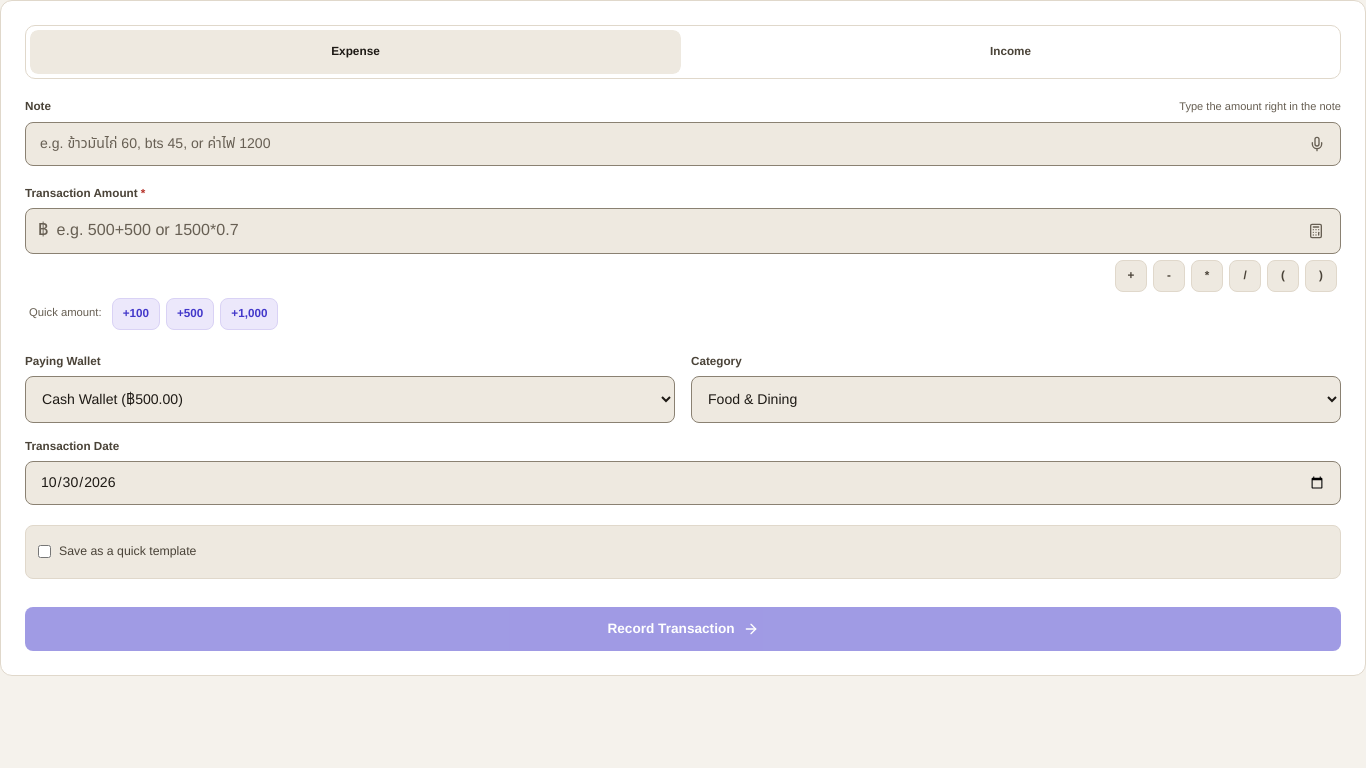
Test: TransactionForm: the form records the amount it seeds › after a save the field is empty and the submit disarmed, and a new amount can be typed at once
Type "lunch 60" into the field labelled "Note" at {"x": 683, "y": 144}, box 25,122 -> 1341,166
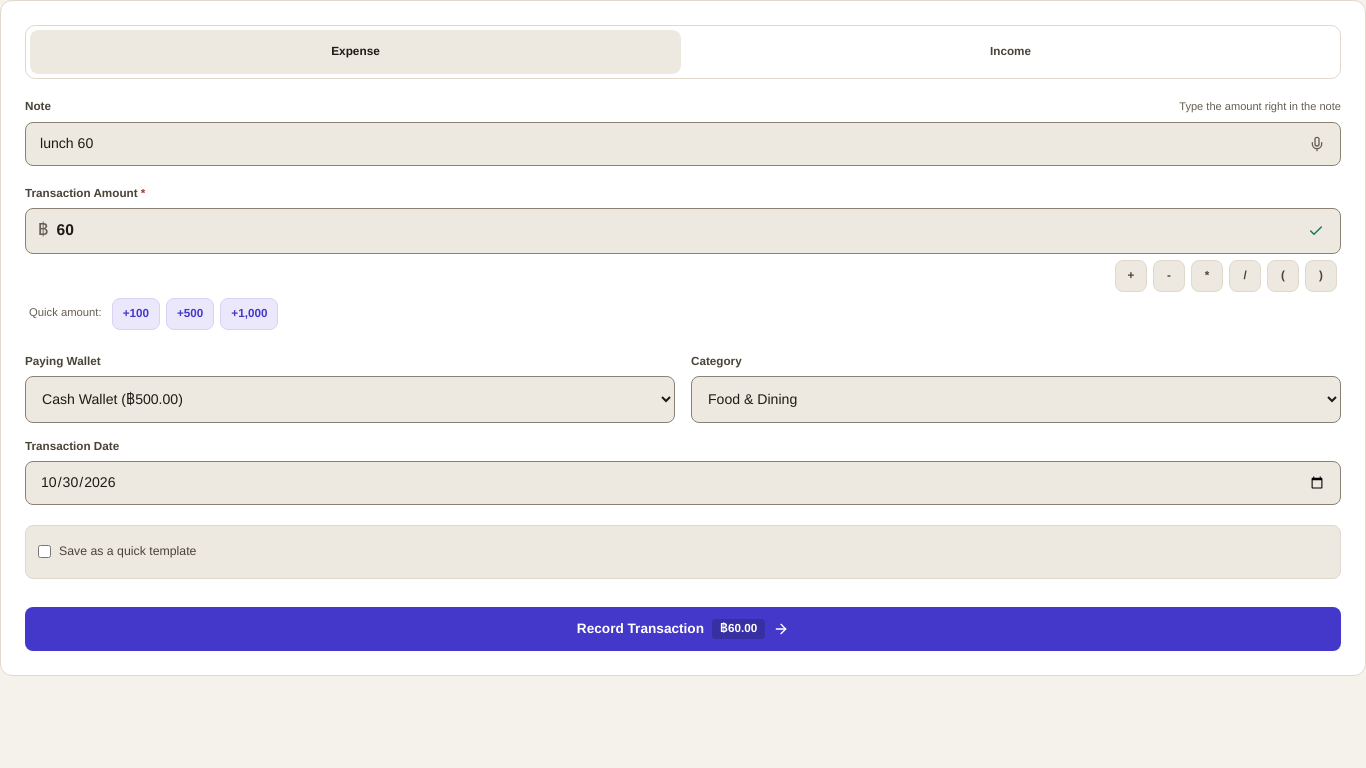
Click the button with id "t-confirm-btn" at {"x": 683, "y": 628}, box 25,606 -> 1341,650
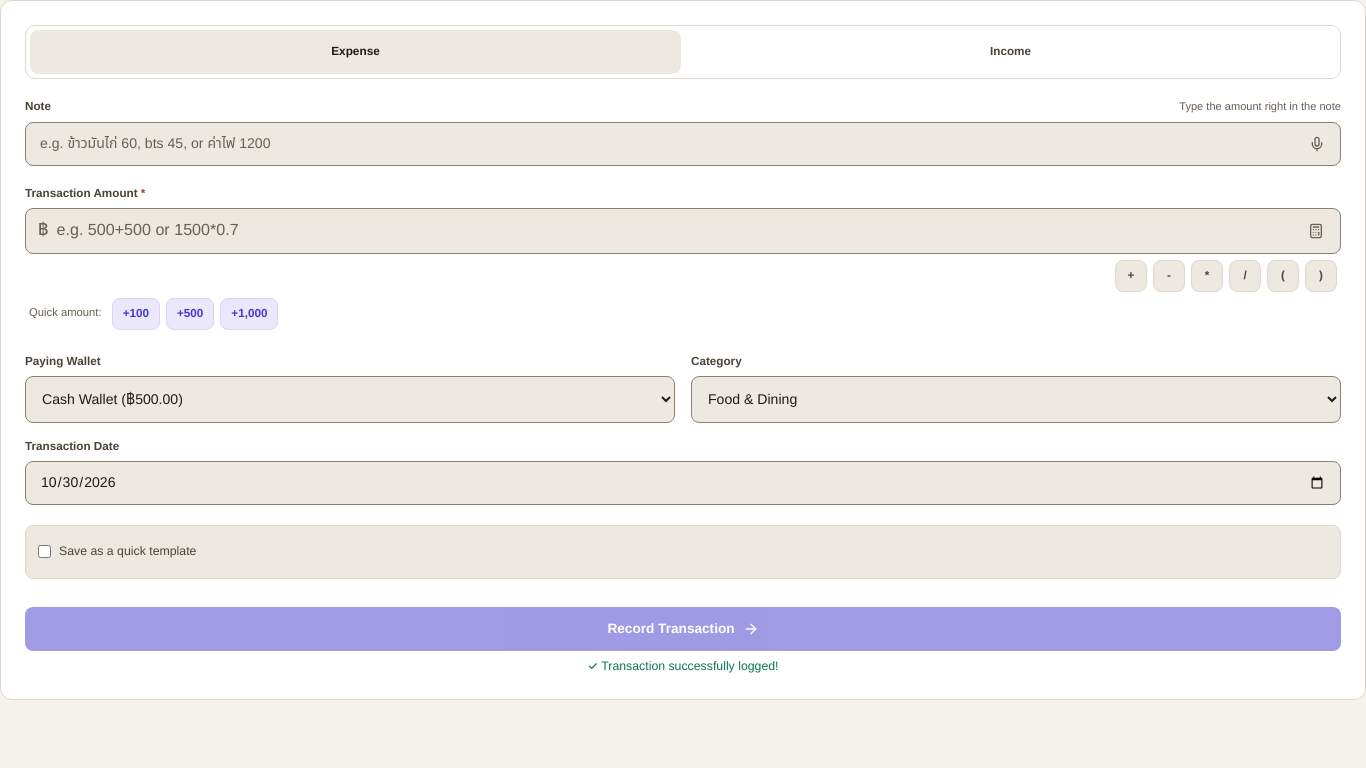
Now the field with id "t-amount-math" is empty
Now the button with id "t-confirm-btn" is disabled, box 25,606 -> 1341,650
Type "45" into the field with id "t-amount-math" at {"x": 676, "y": 230}, box 56,208 -> 1296,252
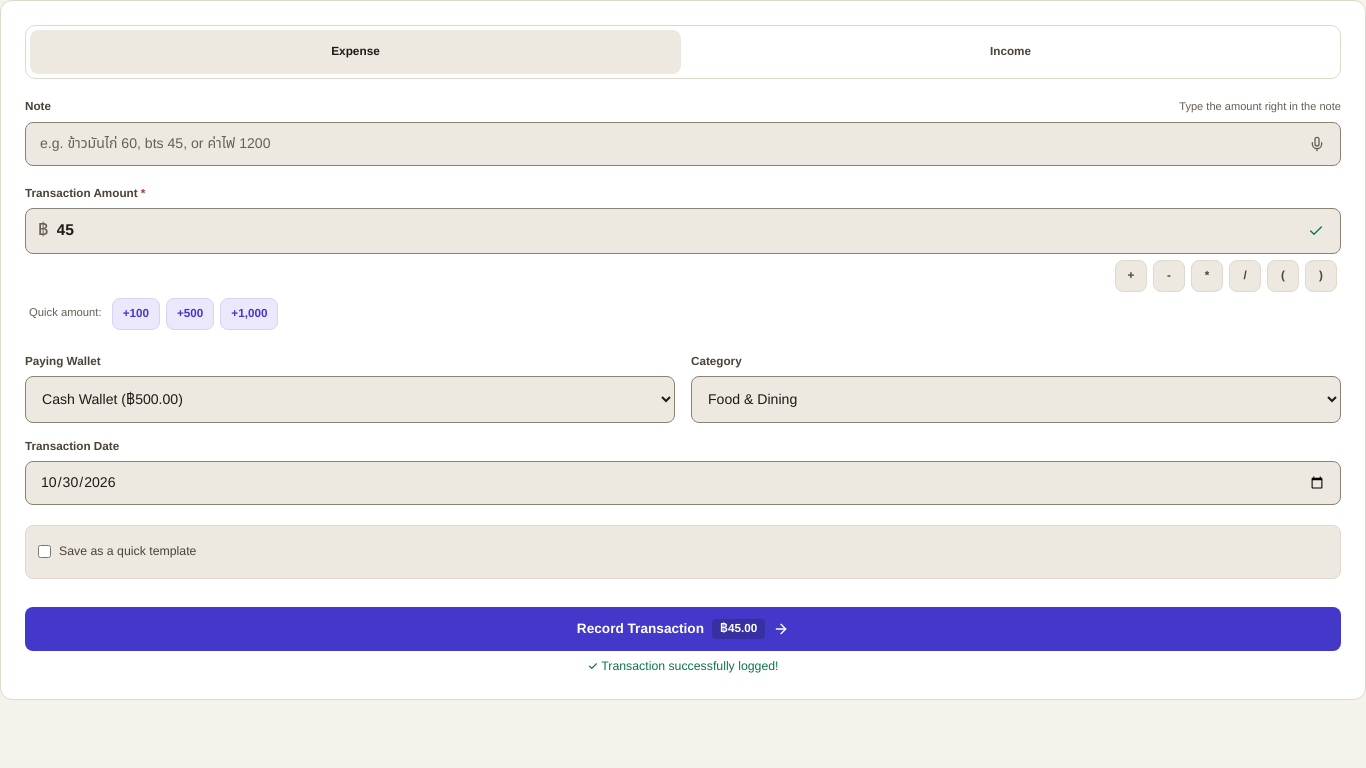
Now the button with id "t-confirm-btn" is enabled, box 25,606 -> 1341,650
